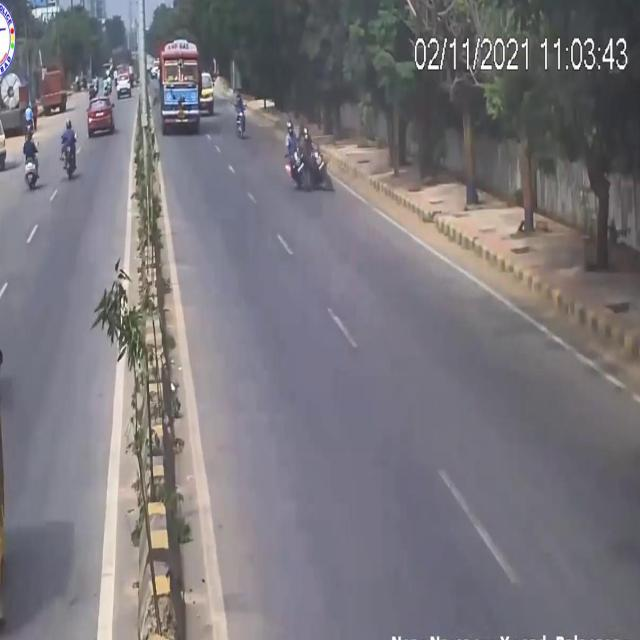accident: (283, 114, 333, 202)
non_accident: (155, 31, 217, 141), (107, 43, 133, 105)
